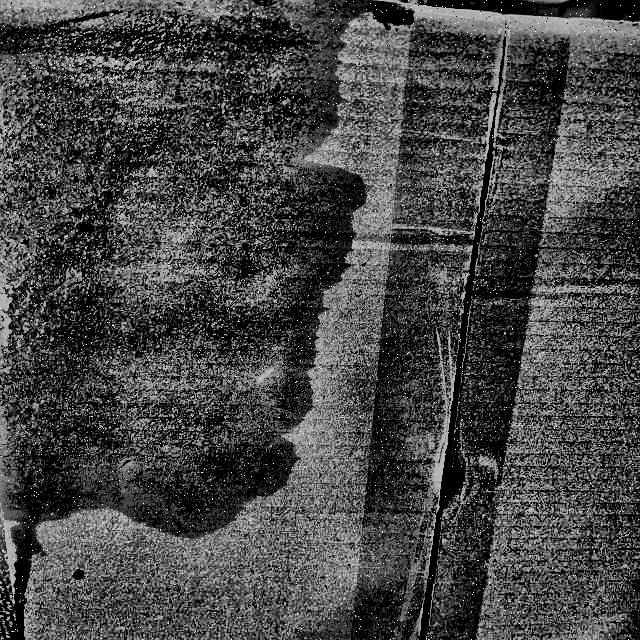box: (1, 0, 640, 639)
wet: (0, 1, 378, 528)
